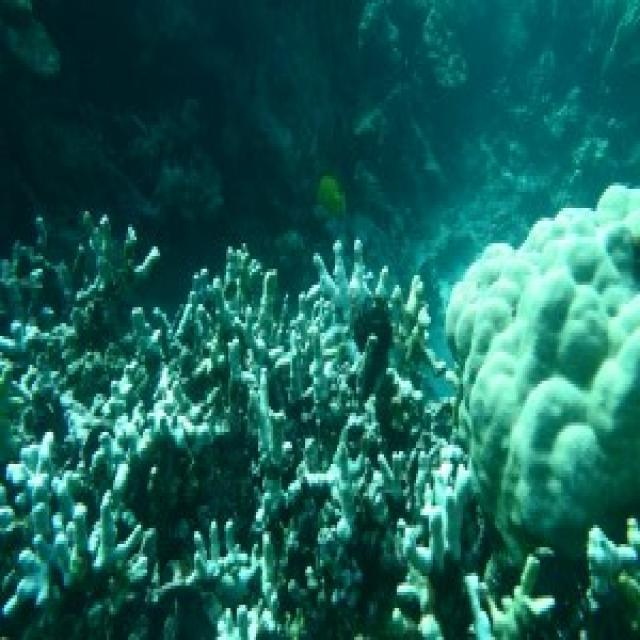Bleached: (1, 209, 493, 640), (449, 186, 640, 531), (466, 558, 557, 640), (583, 520, 640, 635)
